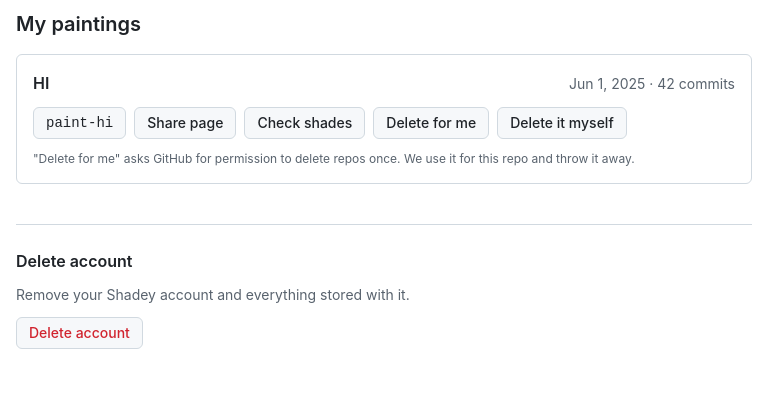
MyPaintingsPage › asks to wait while GitHub catches up
The width and height of the screenshot is (769, 398).
Click the button "Check shades" at (305, 123), box [244, 107, 365, 139]
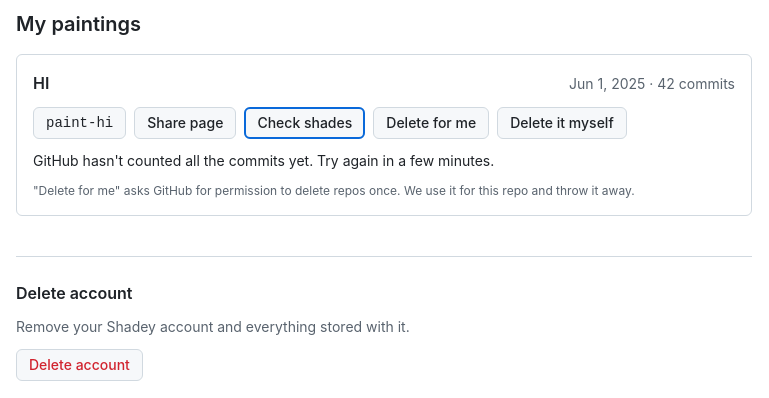
Result: the message shows "GitHub hasn't counted all the commits yet." at [33, 152, 494, 169]
